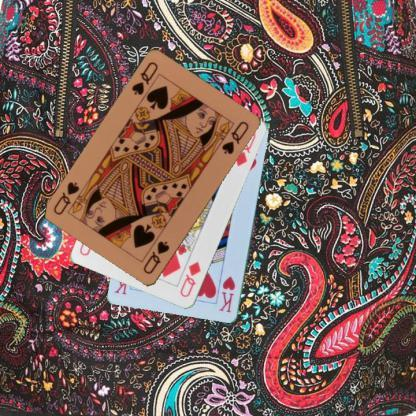Kh: (216, 274, 237, 314)
Qd: (178, 259, 202, 299)
Qs: (128, 59, 160, 97), (140, 238, 171, 276)
